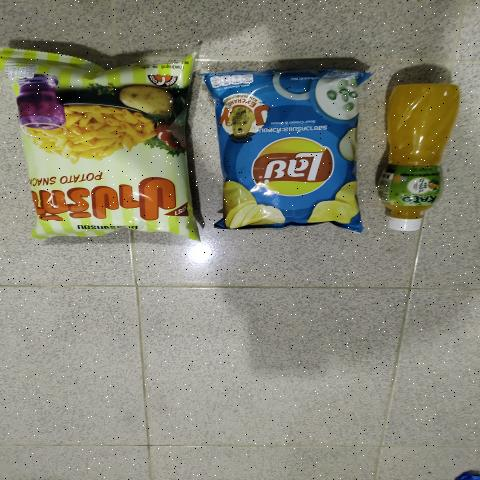lay_blue: (207, 62, 369, 240)
paprika: (22, 44, 188, 235)
